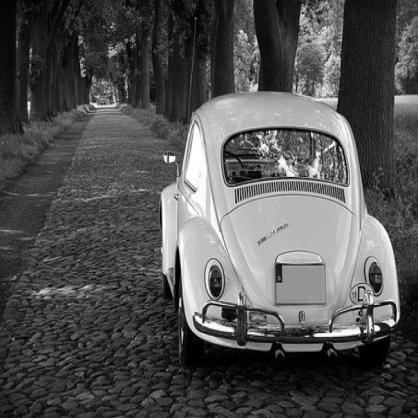car: (160, 93, 404, 375)
